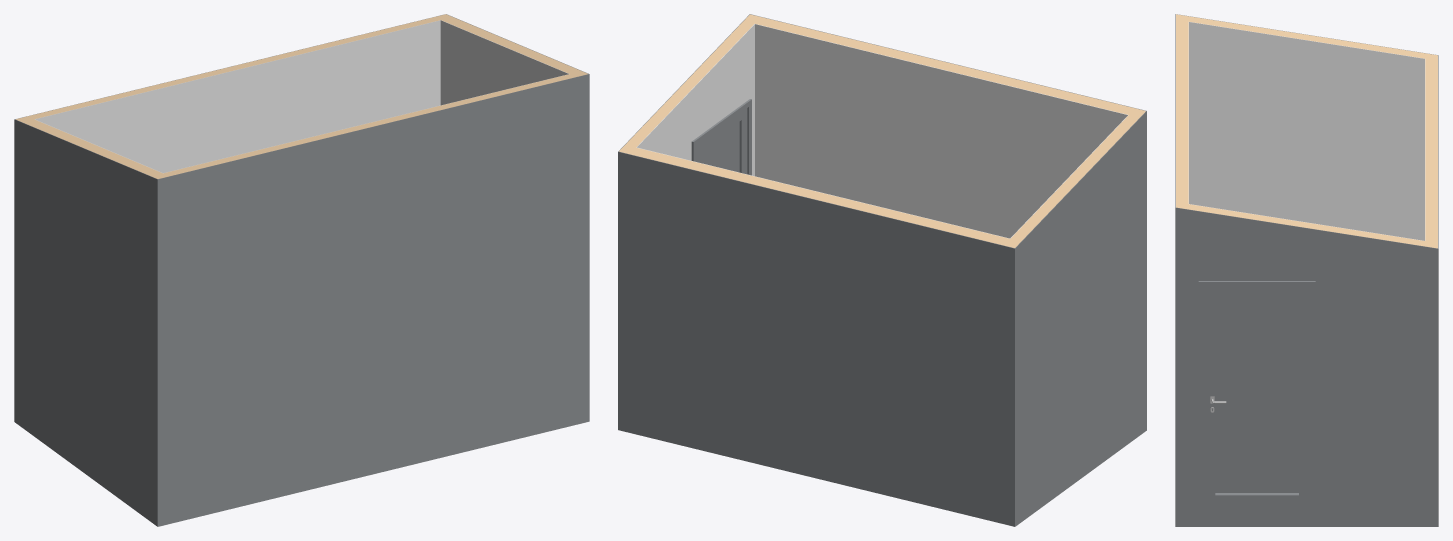
File: karolisgelazanskas@gmail.fbx
The picture shows the model from 3 angles, left to right: view 1: azimuth 30°, elevation 25°; view 2: azimuth 150°, elevation 25°; view 3: azimuth 270°, elevation 25°; orthographic projection. The views are drawn at different scales.
Parts seen in each view (by area): view 1: IfcWall/Part:2319977, IfcWall/Part:2627371, IfcWall/Part:2397154, IfcWall/Part:2397151, IfcWall/Part:2397156, IfcWall/Part:2319978, IfcWall/Part:2627372, IfcWall/Part:2397153; view 2: IfcWall/Part:2397155, IfcWall/Part:2319976, IfcWall/Part:2627371, IfcWall/Part:2397151, IfcWall/Part:2397156, IfcWall/Part:2319978, IfcDoor/Durys išorinės:930x2100x120 (dešininės):2631065, IfcWall/Part:2627372, IfcWall/Part:2397153; view 3: IfcWall/Part:2397152, IfcWall/Part:2627370, IfcDoor/Durys išorinės:930x2100x120 (dešininės):2631065, IfcWall/Part:2397156, IfcWall/Part:2319978, IfcWall/Part:2627372, IfcWall/Part:2397153, IfcWall/Part:2397155.
Part boxes in pixels (x1,y1,x2,y2): IfcWall/Part:2319977: (158,74,588,526); IfcWall/Part:2627371: (14,119,158,526); IfcWall/Part:2397154: (35,20,440,172); IfcWall/Part:2397151: (440,20,568,105); IfcWall/Part:2397156: (27,14,452,119); IfcWall/Part:2319978: (163,74,575,175); IfcWall/Part:2627372: (16,116,169,178); IfcWall/Part:2397153: (441,17,587,76); IfcWall/Part:2397155: (618,151,1014,526); IfcWall/Part:2319976: (755,24,1127,238); IfcWall/Part:2627371: (1014,111,1146,526); IfcWall/Part:2397151: (637,24,754,176); IfcWall/Part:2397156: (619,145,1009,245); IfcWall/Part:2319978: (755,17,1134,114); IfcDoor/Durys išorinės:930x2100x120 (dešininės):2631065: (691,99,751,175); IfcWall/Part:2627372: (1004,108,1145,247); IfcWall/Part:2397153: (625,14,760,147); IfcWall/Part:2397152: (1175,207,1437,526); IfcWall/Part:2627370: (1189,22,1424,240); IfcDoor/Durys išorinės:930x2100x120 (dešininės):2631065: (1198,281,1315,504); IfcWall/Part:2397156: (1425,58,1437,248); IfcWall/Part:2319978: (1176,19,1188,203); IfcWall/Part:2627372: (1176,14,1437,60); IfcWall/Part:2397153: (1176,202,1425,246); IfcWall/Part:2397155: (1438,55,1438,526).
Size of the model in its own units: 406 by 308 by 230.
